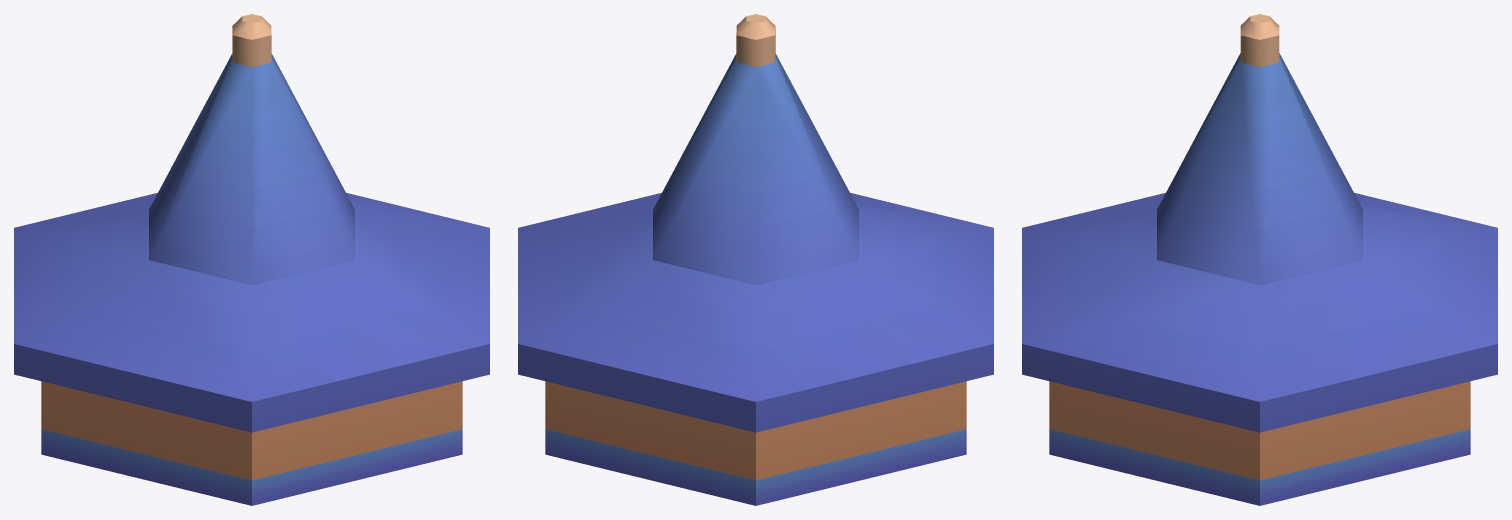
Rendered from tower-hexagon-roof-secondary.glb.
The picture shows the model from 3 angles, left to right: view 1: azimuth 30°, elevation 25°; view 2: azimuth 150°, elevation 25°; view 3: azimuth 270°, elevation 25°; orthographic projection.
Parts seen in each view (by area): view 1: tower-hexagon-roof-secondary; view 2: tower-hexagon-roof-secondary; view 3: tower-hexagon-roof-secondary.
Boxes of the visible parts, x1,y1,x2,y2 form: tower-hexagon-roof-secondary: (14,14,489,505); tower-hexagon-roof-secondary: (518,14,993,505); tower-hexagon-roof-secondary: (1022,14,1497,505).
Bounding box in the file's own units: 0.9763 × 0.7537 × 0.8456.
Materials: 1 (1 with a texture image).
